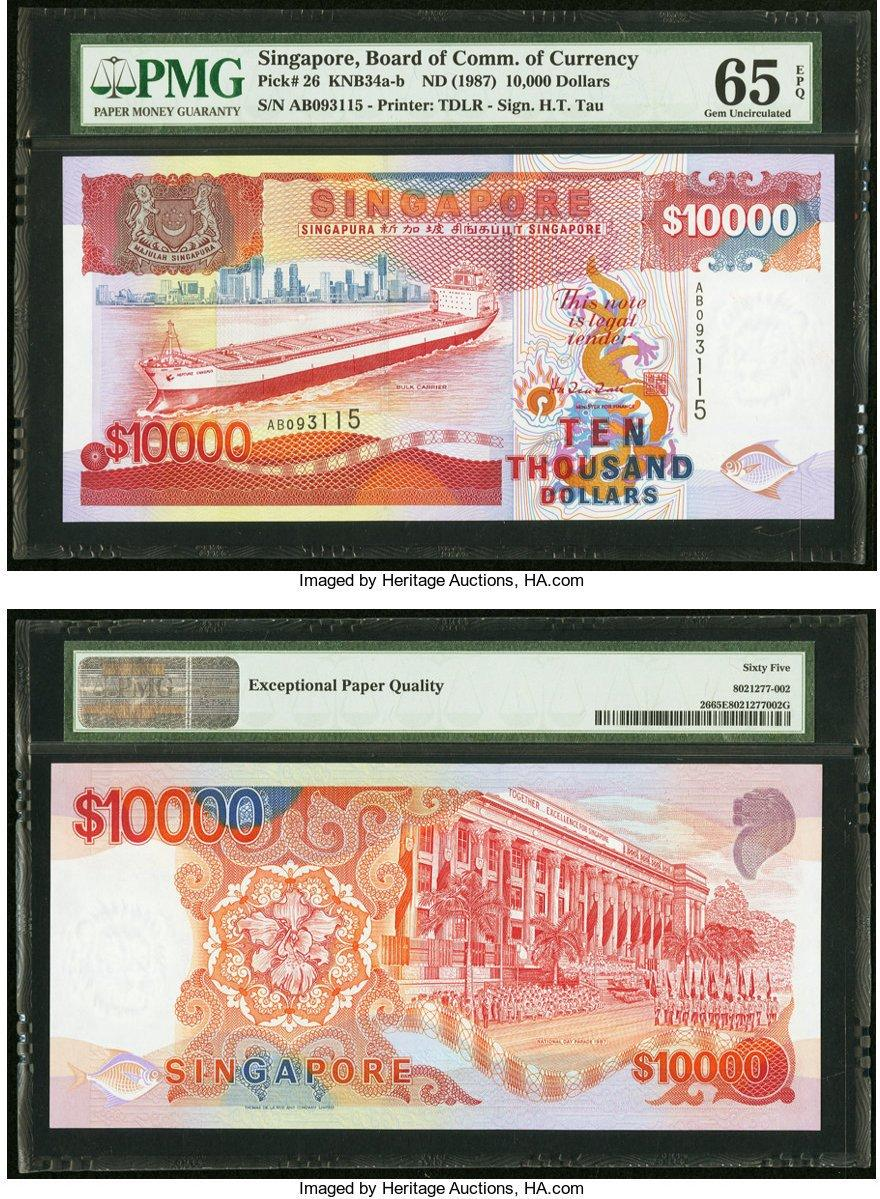10000SingaporeDollar: (64, 156, 835, 518)
